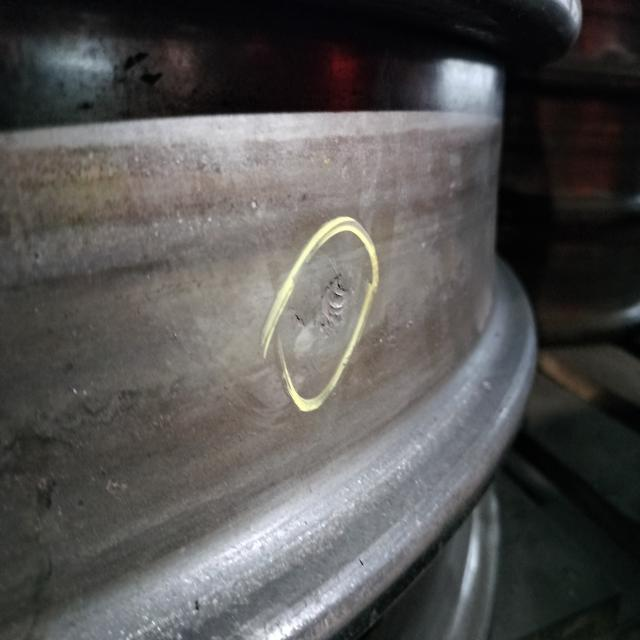Blue hole: (293, 272, 356, 357)
